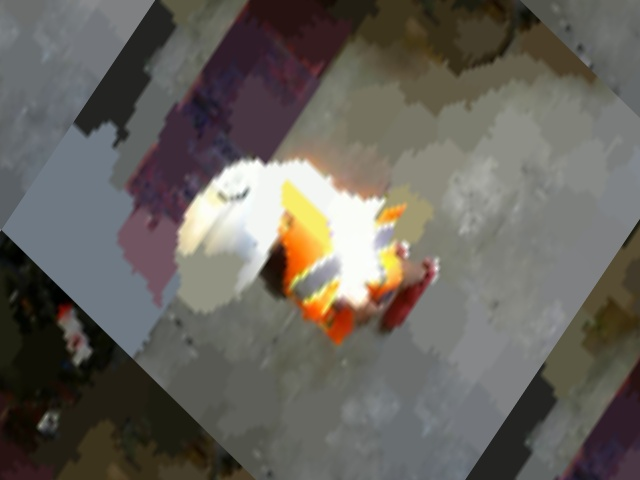two: (209, 158, 252, 210)
